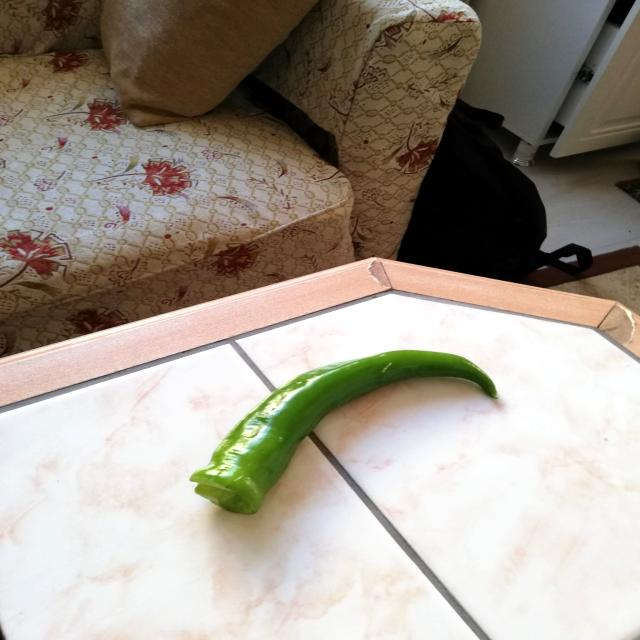green pepper: (188, 347, 502, 519)
